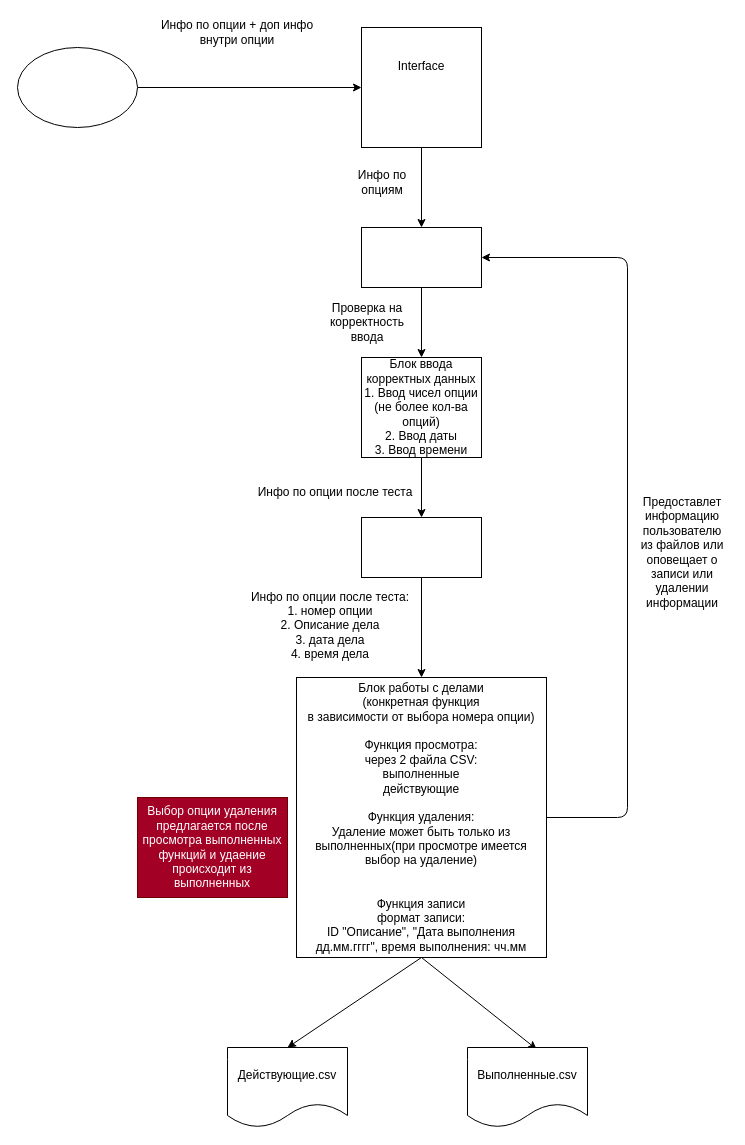
Some shapes in this 745 by 1145 pixel diagram are drawn without their labels. The shapes that lost their labels are listed below. From the top down, each one's centre as x and y in pixels, then its label:
At (77,87): "User".
At (421,257): "Controller".
At (421,547): "Блок выбора опции".
